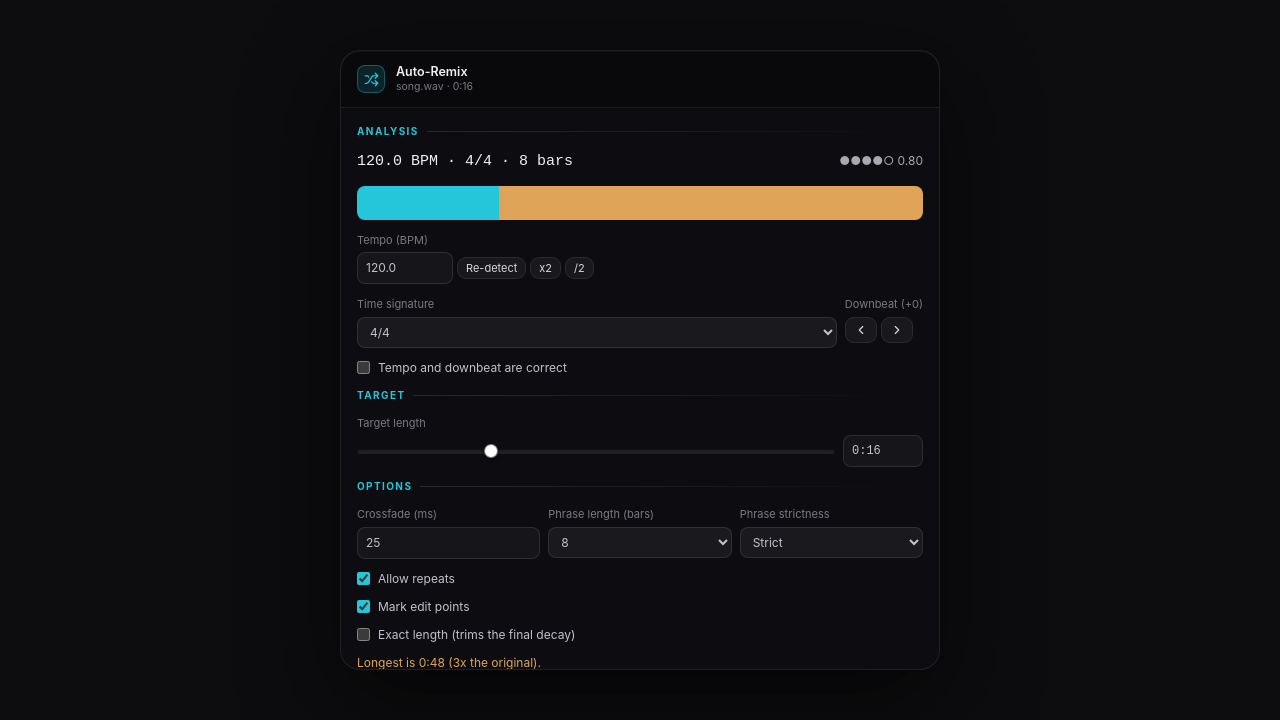
it: RemixDialog › 4. an unreachable target renders the amber hint with the offered value and disables Create
Expected: the text with test id "remix-hint" reads "Longest is 0:48 (3x the original).", [357, 655, 541, 669]
Select "4" in the dropdown with test id "remix-phrase" at (640, 542), box [548, 527, 732, 558]
(page scrolled)
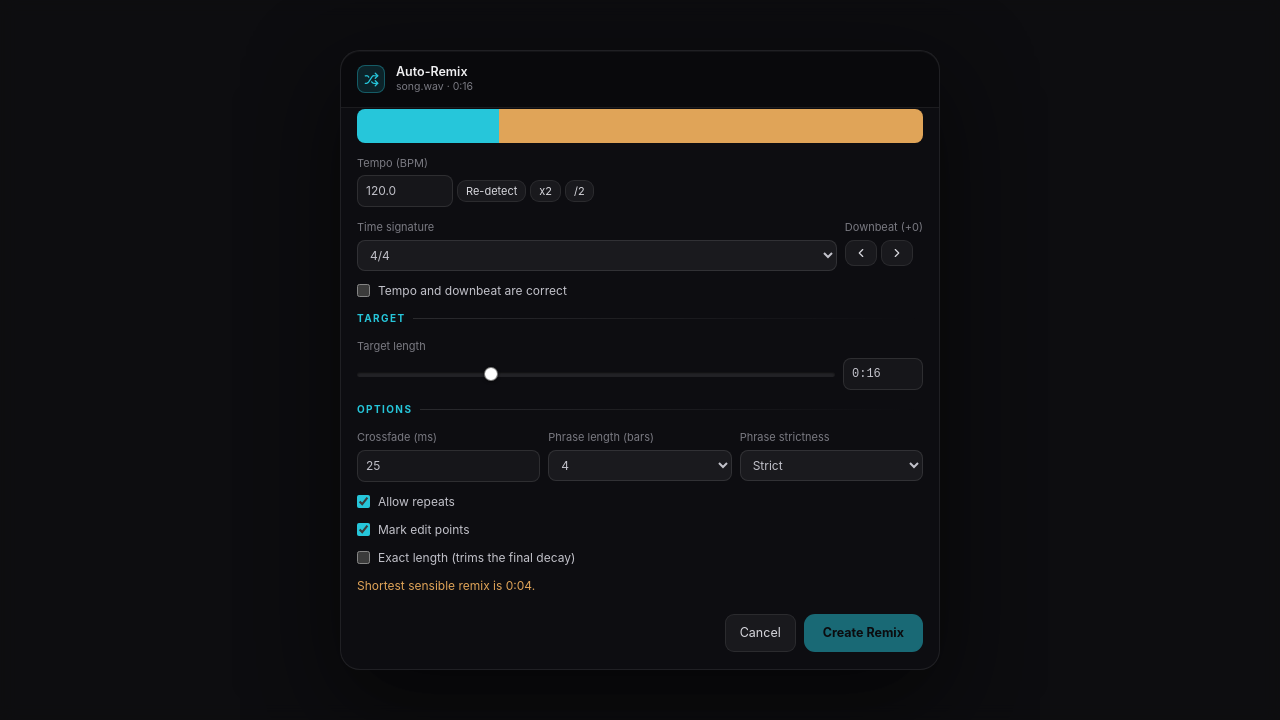
Expected: the text with test id "remix-hint" reads "Shortest sensible remix is 0:04.", [357, 578, 535, 593]
Expected: the button "Create Remix" is disabled, [804, 614, 923, 652]
